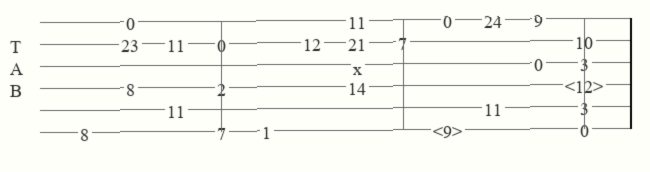0: (126, 12, 139, 28), (217, 34, 230, 50), (443, 12, 456, 28), (534, 56, 547, 72), (580, 122, 593, 138)
1: (262, 122, 275, 138)
10: (575, 34, 597, 50)
11: (167, 34, 189, 50), (167, 100, 189, 116), (348, 12, 370, 28), (484, 100, 506, 116)
12: (303, 34, 325, 50)
14: (348, 78, 370, 94)
2: (217, 78, 230, 94)
21: (348, 34, 370, 50)
23: (121, 34, 143, 50)
24: (484, 12, 506, 28)
3: (580, 56, 593, 72), (580, 100, 593, 116)
7: (217, 122, 230, 138), (398, 34, 411, 50)
8: (80, 122, 93, 138), (126, 78, 139, 94)
9: (534, 12, 547, 28)
harmonic: (565, 78, 607, 94), (433, 122, 466, 138)
x: (353, 58, 366, 70)
